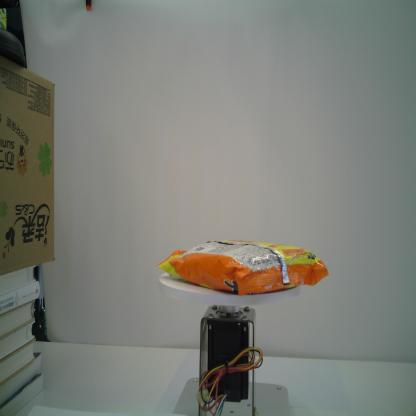Instant Noodles: (155, 236, 331, 298)
